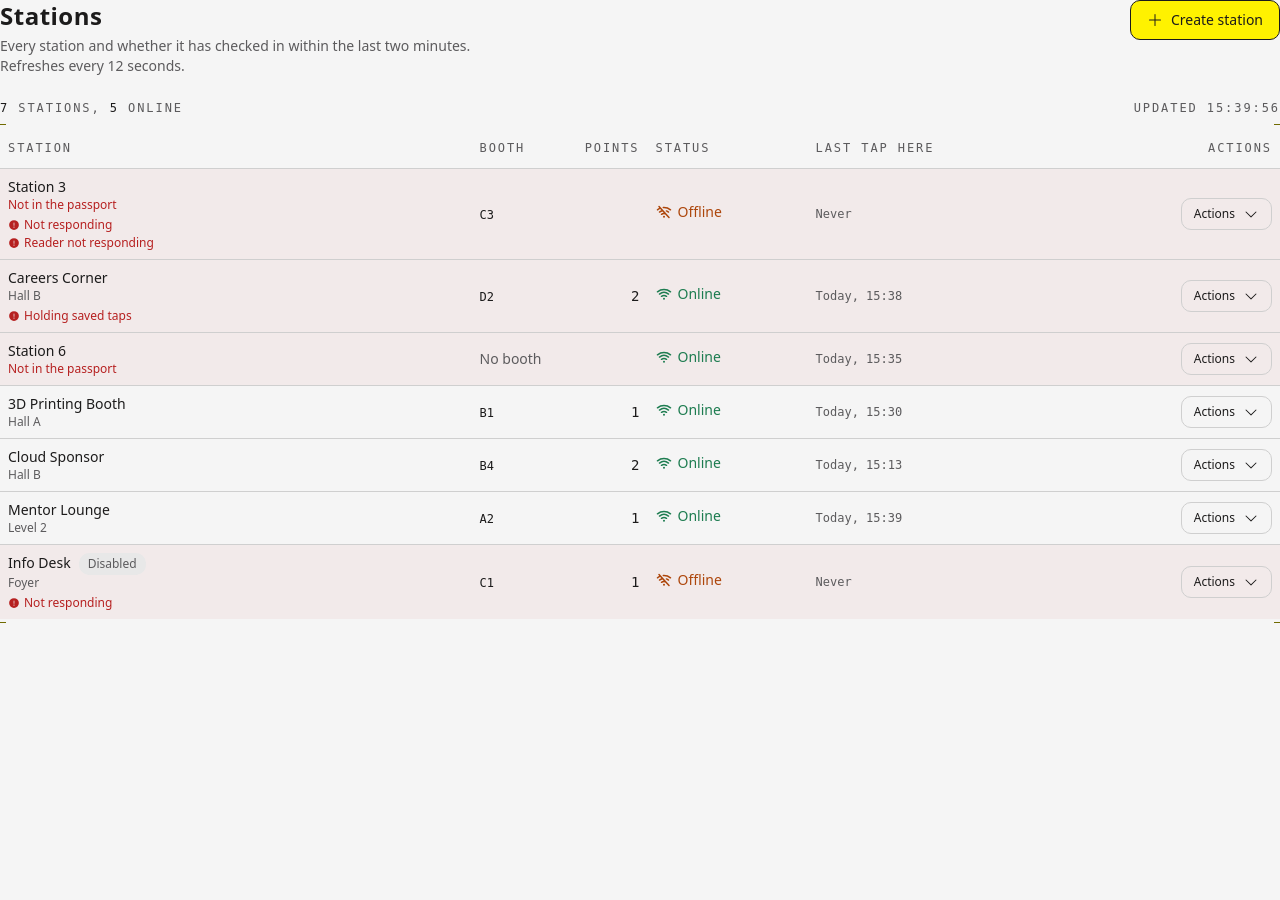
Scenario: the booth on the station board (agreement 9.12) › shows No booth on a station without one, and sets one
Check: the text "Station 6" shows "No booth", box [480,348,542,368]
Click the button "Actions" in the row of "Station 6". click: (1226, 358)
box: [1181,342,1272,374]
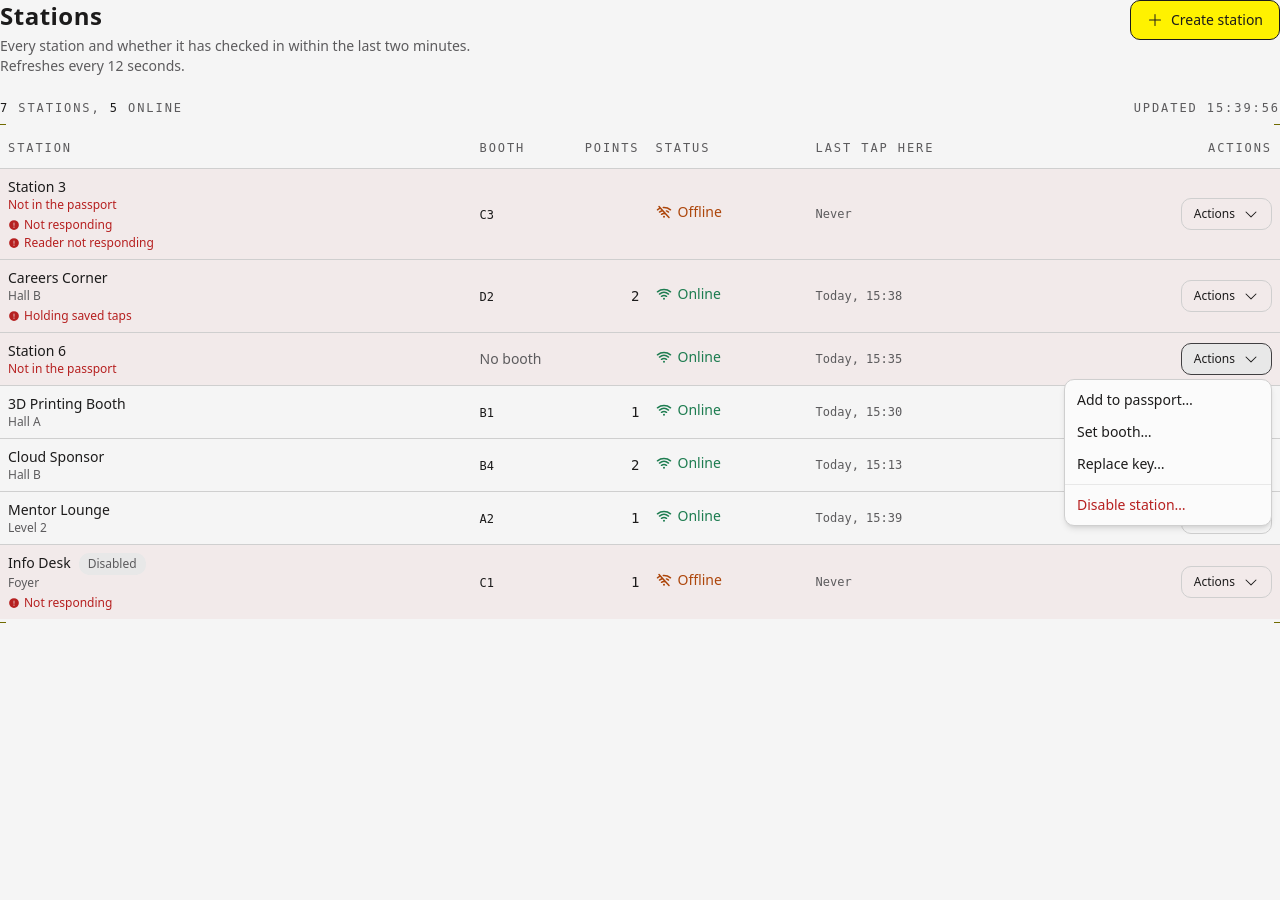
Check: the menu is shown, box [1064,379,1272,526]
Click the menu item "Set booth…". click: (1114, 432)
box: [1077,422,1152,441]
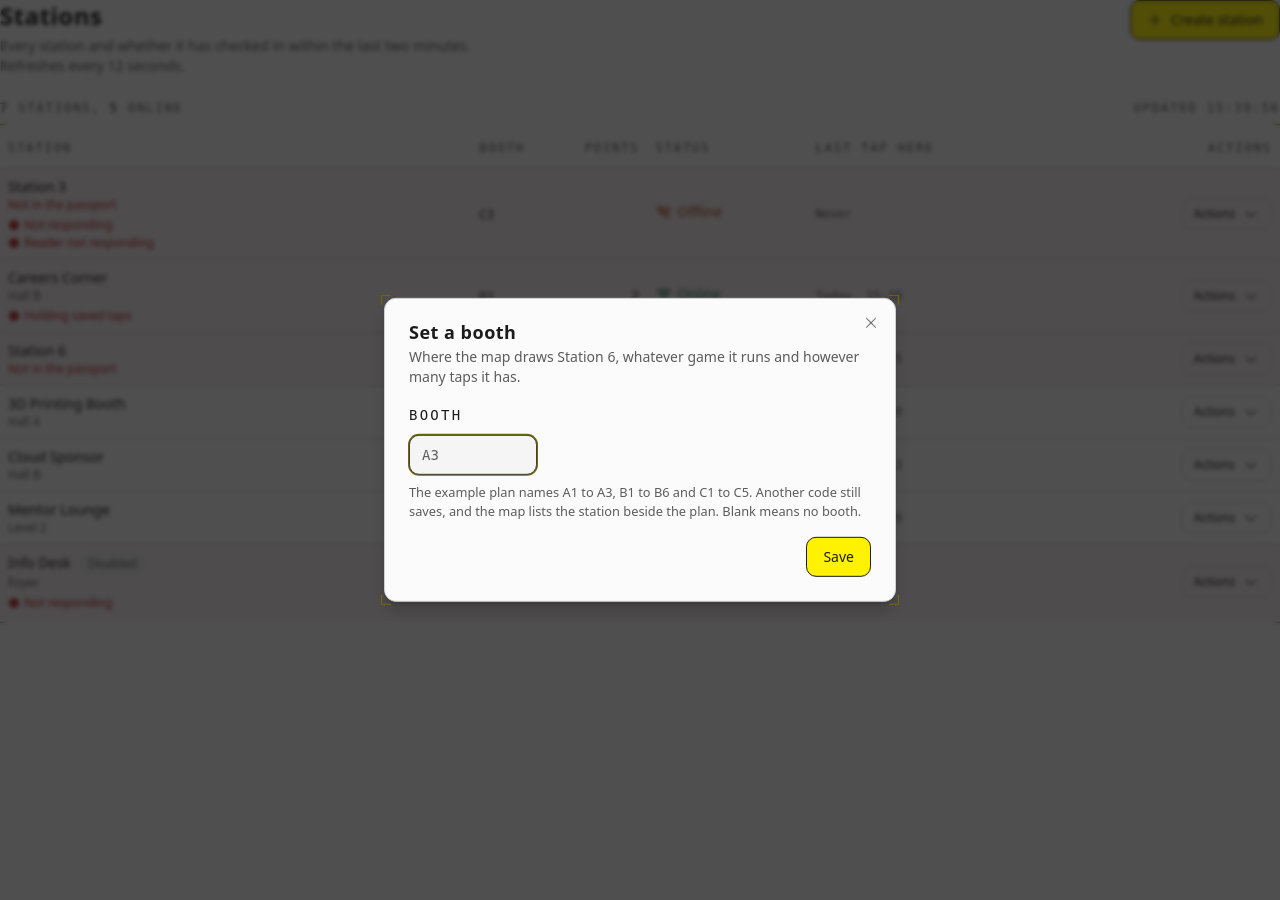
Type "A1" into the field labelled "Booth". click: (473, 455)
box: [409,435,537,475]
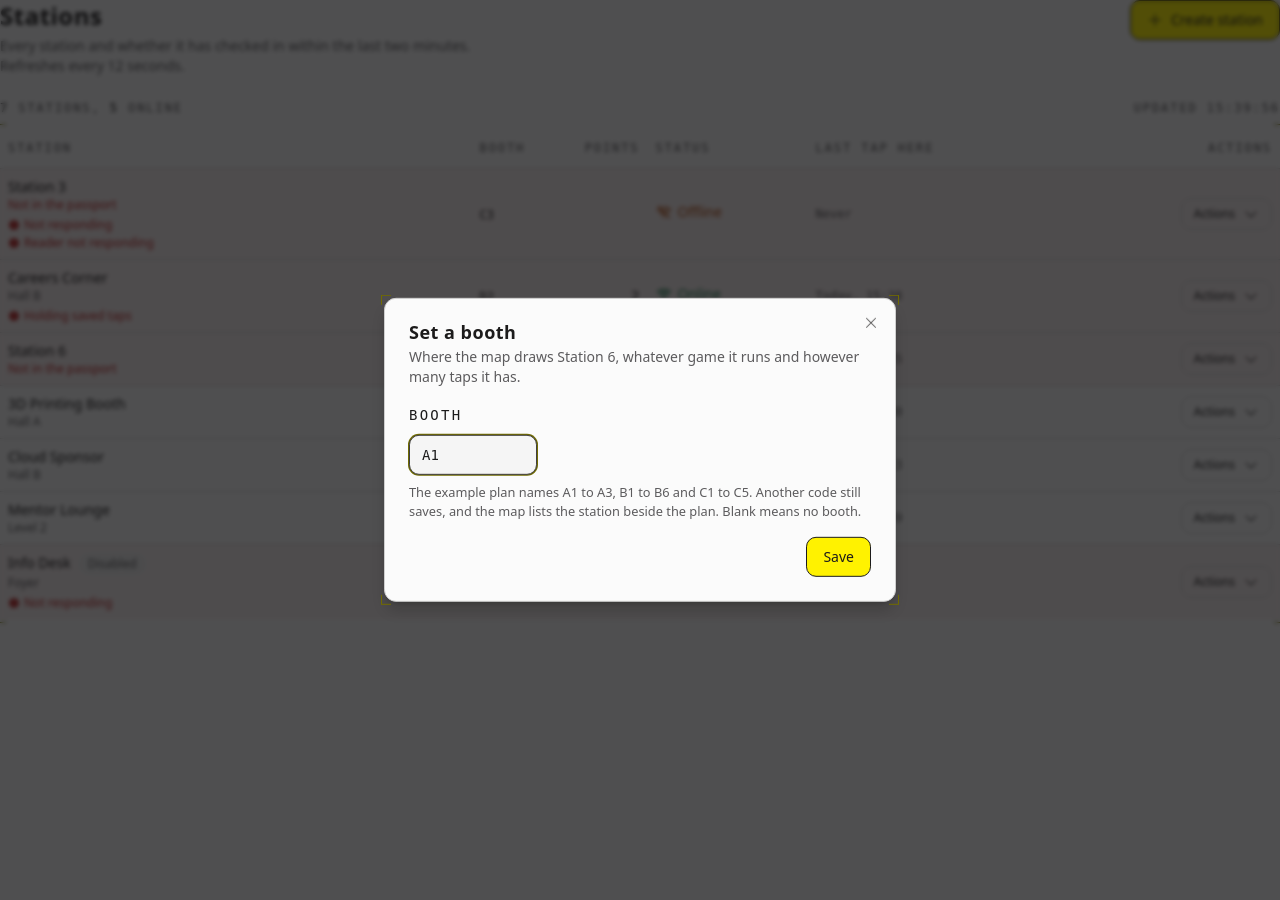
Click the button "Save". click: (839, 557)
box: [806,537,871,577]
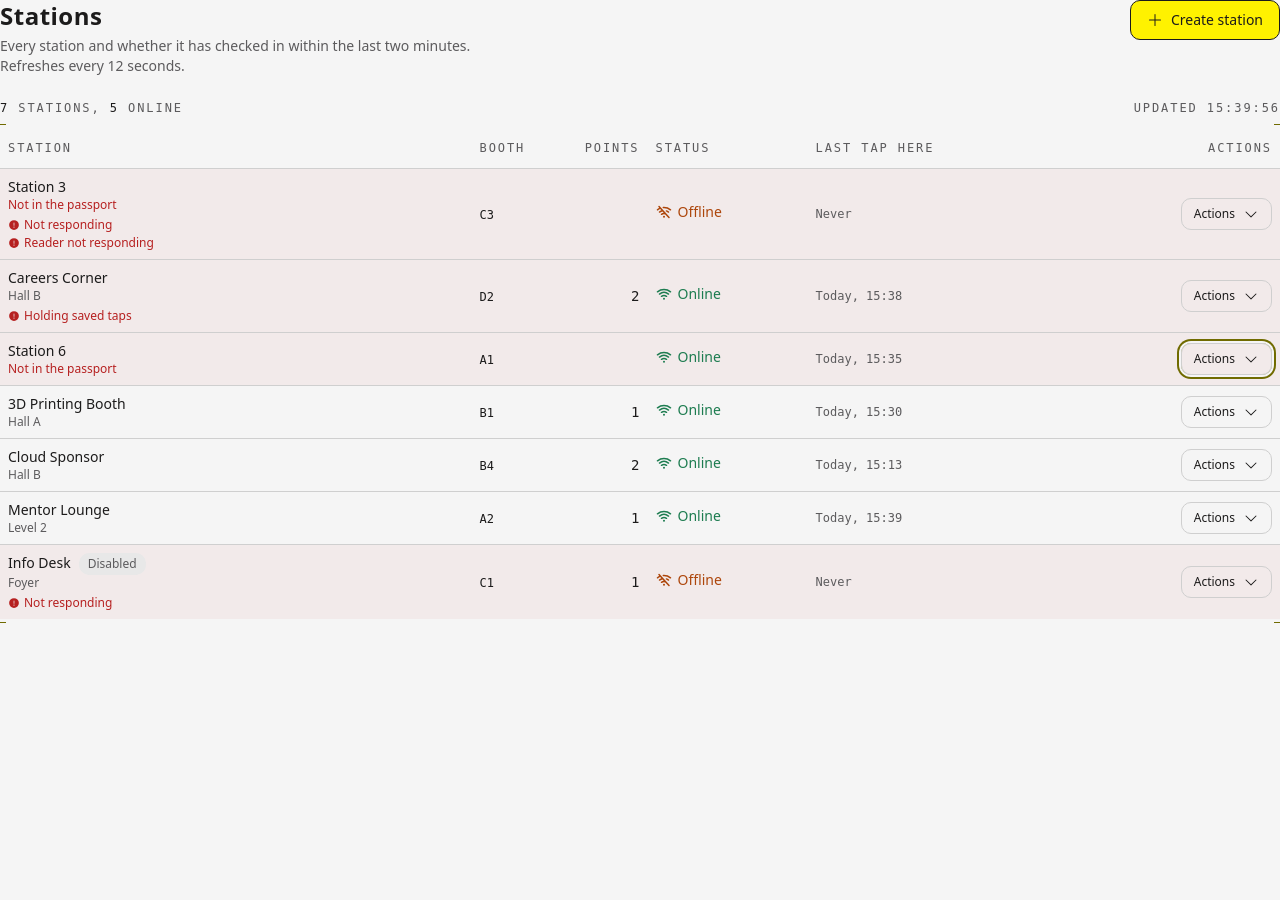
Check: the text "Station 6" shows "A1", box [480,352,494,366]
